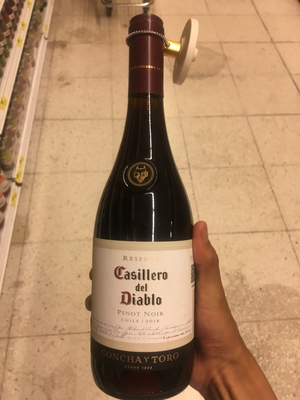casillero del diablo pinot noir: (88, 16, 206, 390)
